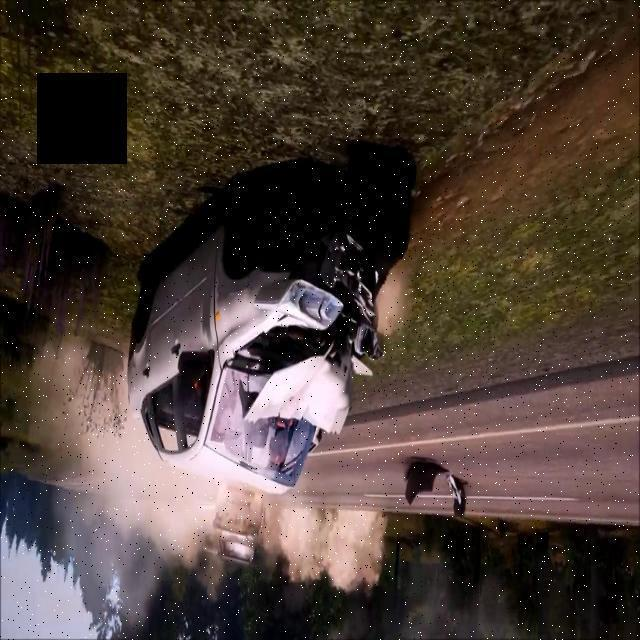vehicle: (118, 185, 396, 504)
